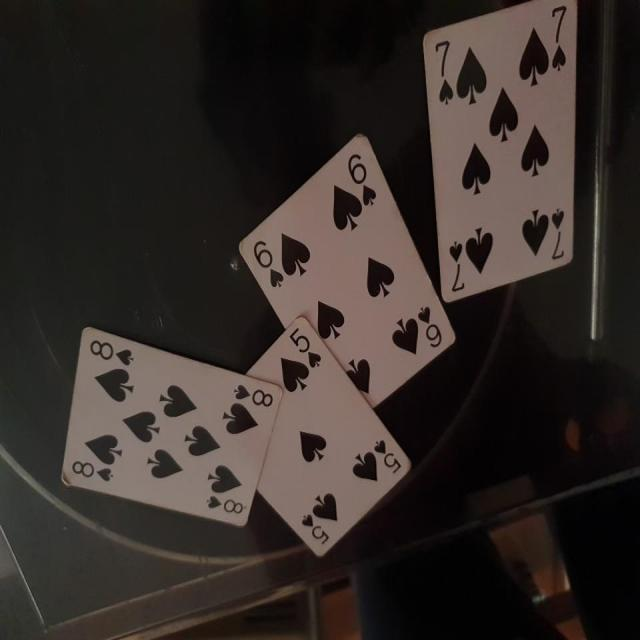5 Spades: (217, 312, 413, 575)
6 Spades: (221, 141, 460, 400)
7 Spades: (414, 1, 580, 307)
8 Spades: (55, 322, 286, 536)
